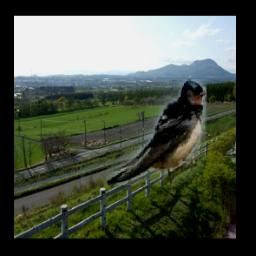Swallow: (82, 79, 207, 185)
